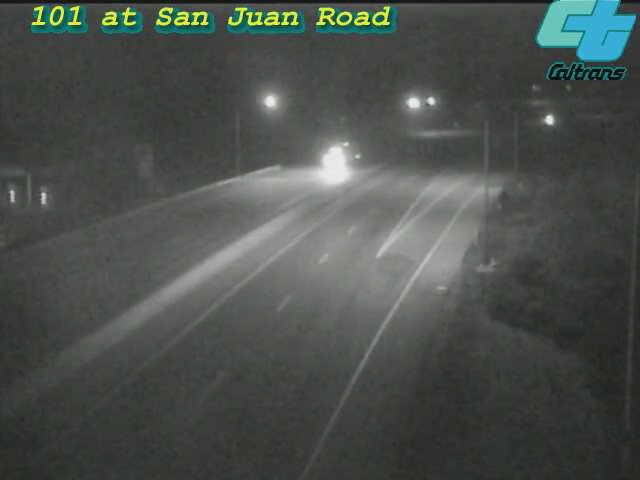vehicle: (308, 133, 358, 183), (521, 95, 571, 145)
